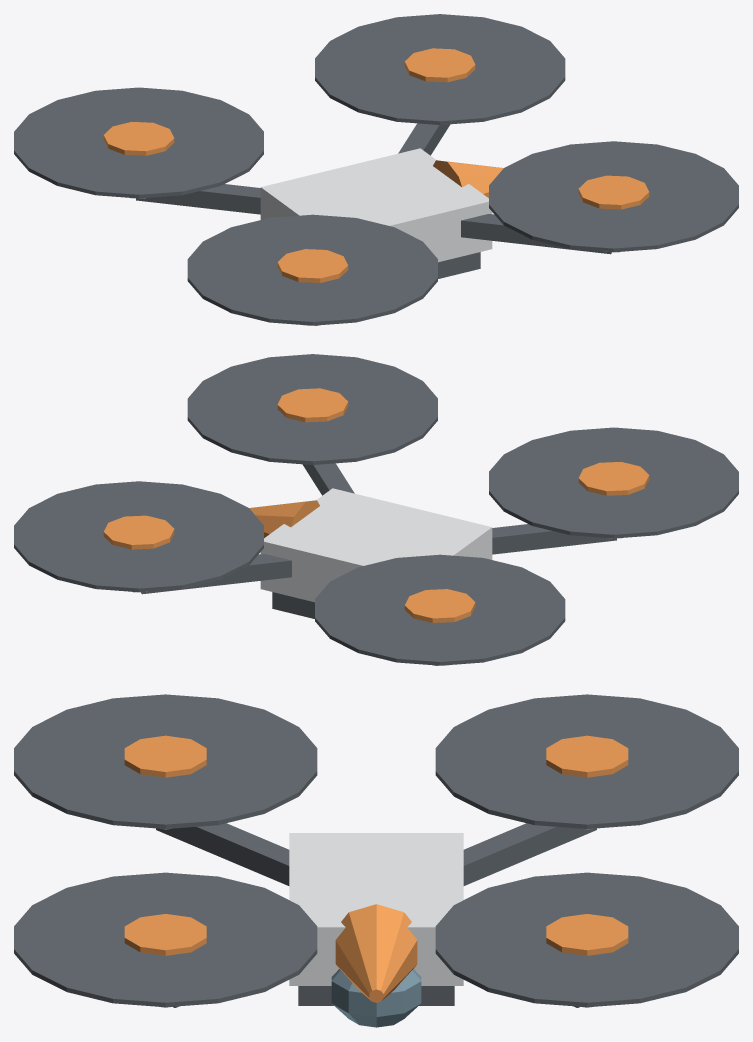
The model's file is quadcopter.glb.
3 views of the same model, one above another, from view 1: azimuth 30°, elevation 25°; view 2: azimuth 150°, elevation 25°; view 3: azimuth 270°, elevation 25° (orthographic). The views are drawn at different scales.
Bounding box in the file's own units: 2.94 × 0.595 × 2.92.
